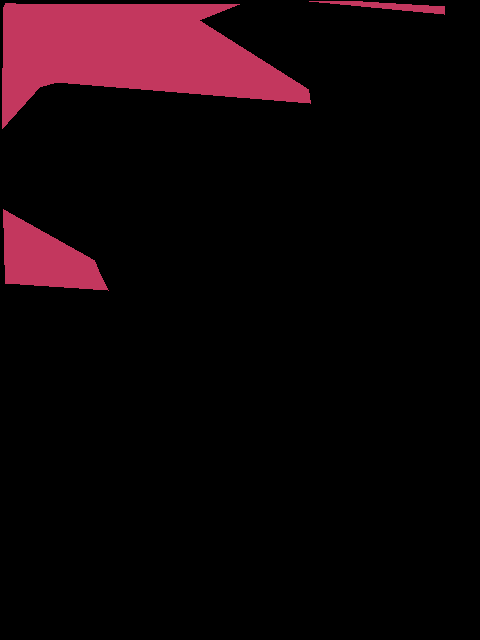Airplane: (2, 1, 444, 290)
